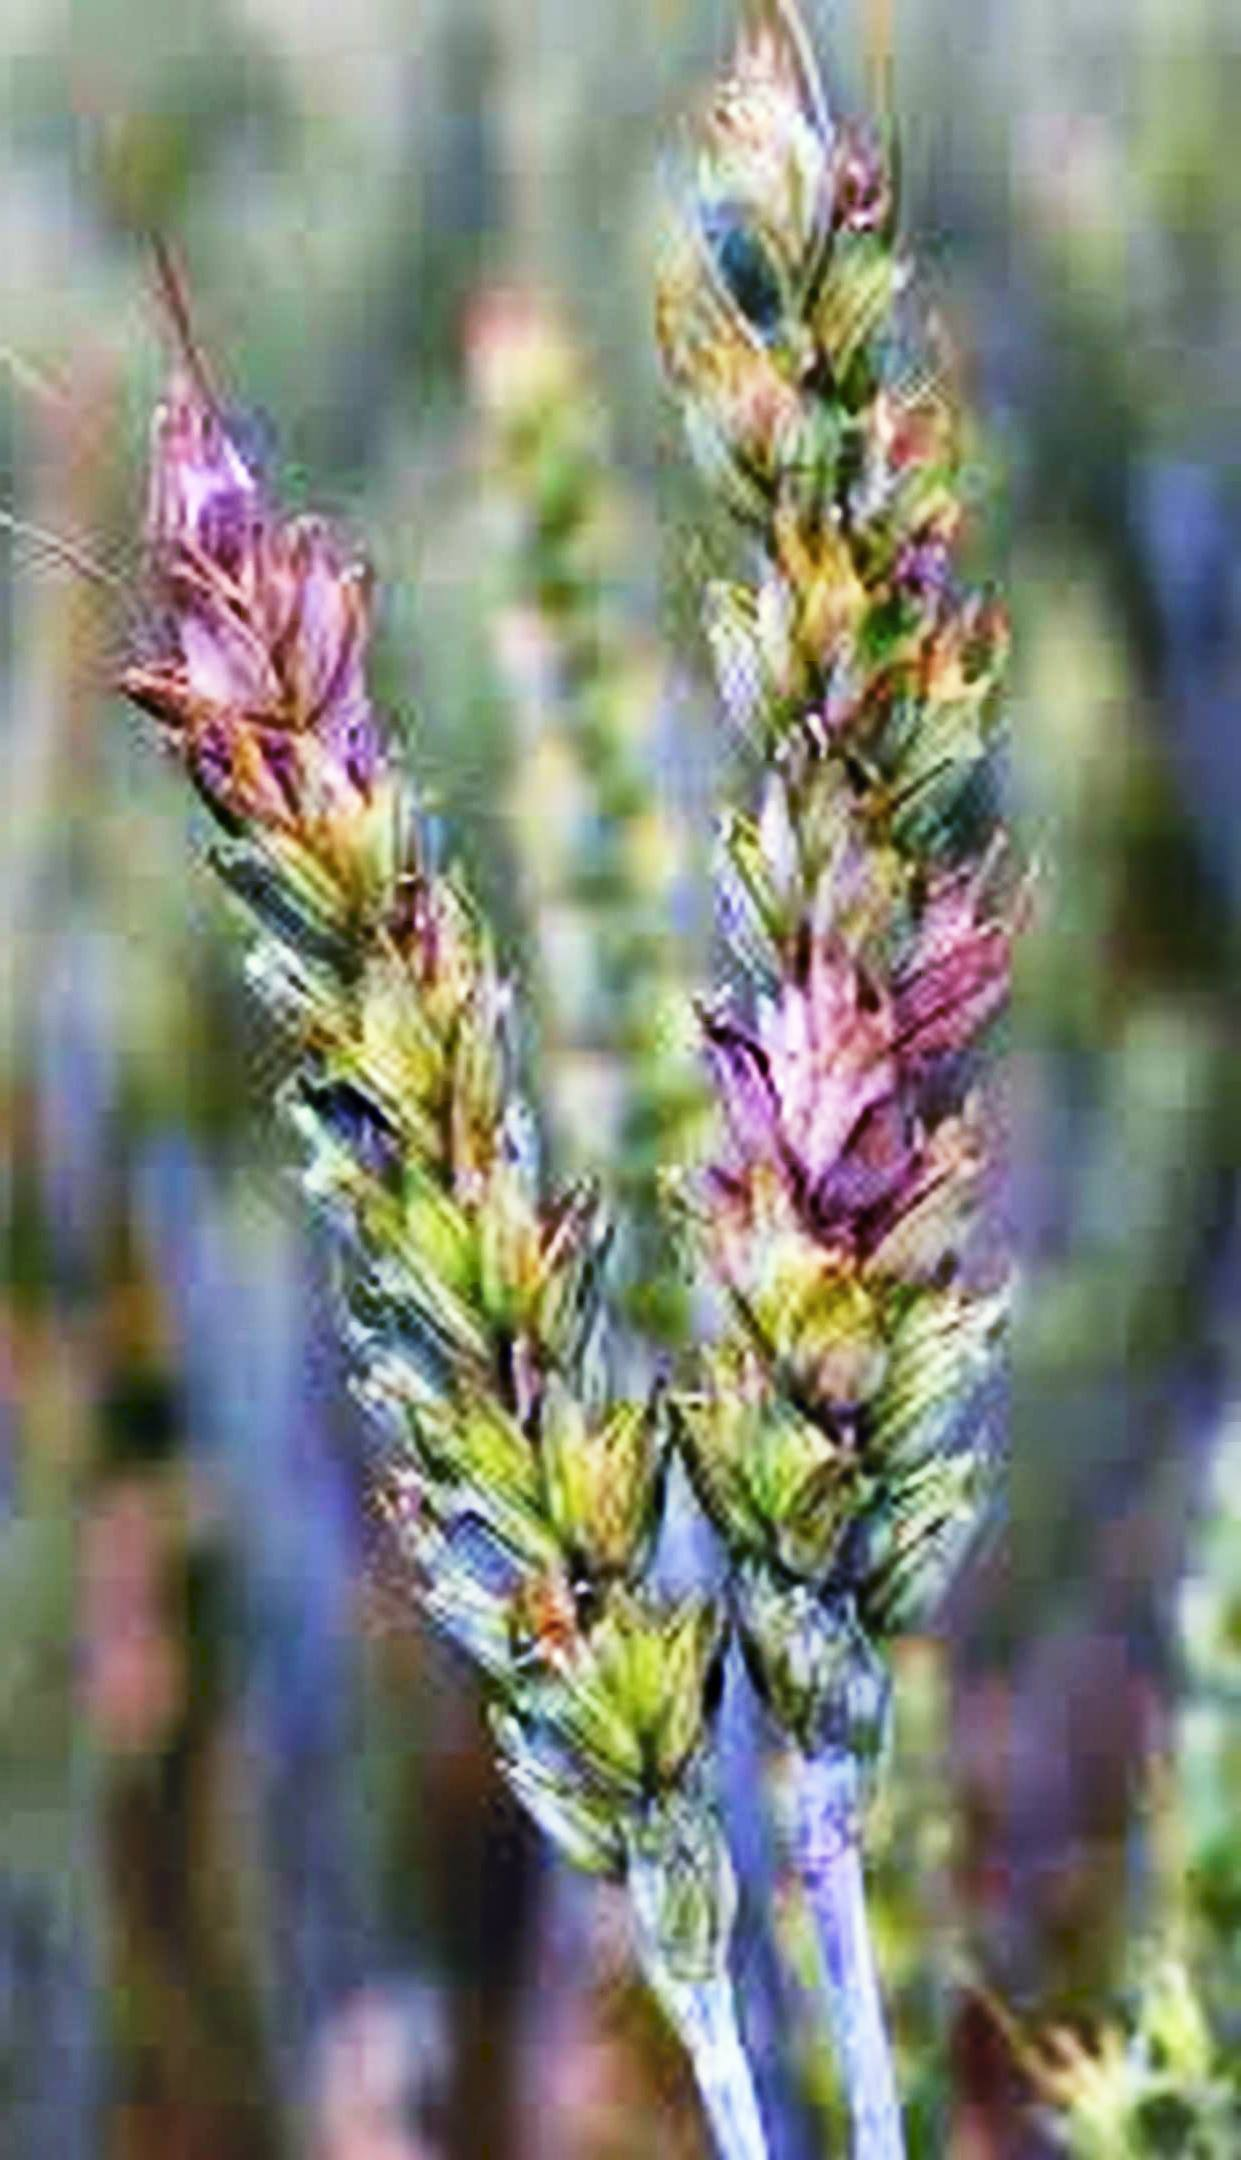Wheat scab: (46, 392, 660, 1932), (678, 77, 1059, 1808)
